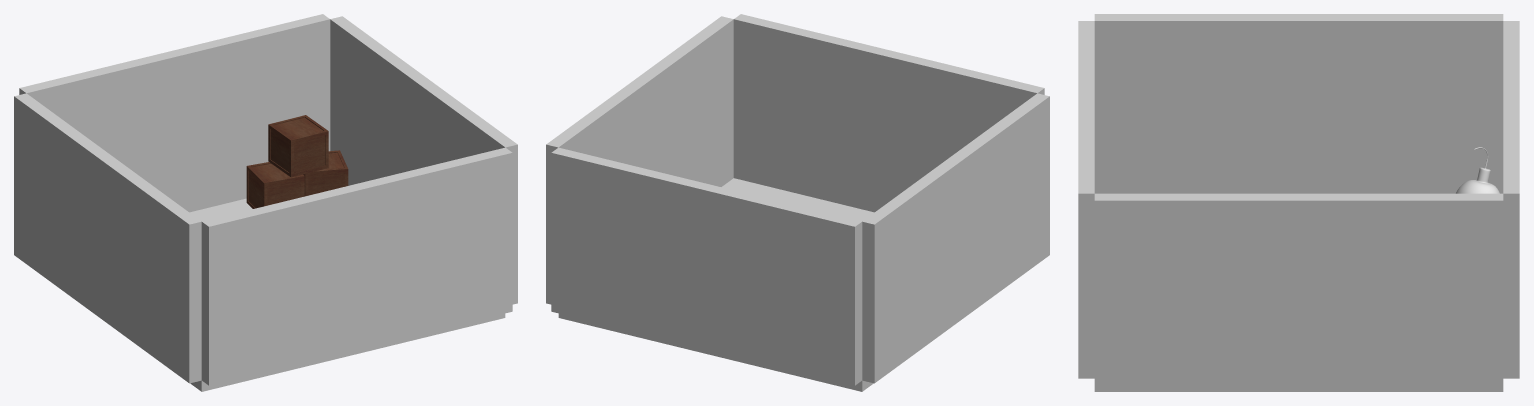
The model's file is MenuRoom.fbx.
3 renders of one model, left to right at view 1: azimuth 30°, elevation 25°; view 2: azimuth 150°, elevation 25°; view 3: azimuth 270°, elevation 25°, orthographic. The views are drawn at different scales.
Parts seen in each view (by area): view 1: Wall_4, Wall_2, Wall_3, Wall_1, Cube.002, Floor, Cube.001, Cube; view 2: Wall_2, Wall_4, Wall_3, Wall_1, Floor; view 3: Wall_1, Wall_3, Wall_2, Wall_4, Floor, Bomb.
Part boxes in pixels (left/top/right/bottom): Wall_4: left=201, top=147, right=512, bottom=385; Wall_2: left=19, top=14, right=330, bottom=212; Wall_3: left=14, top=93, right=201, bottom=383; Wall_1: left=330, top=16, right=517, bottom=304; Cube.002: left=268, top=115, right=328, bottom=177; Floor: left=189, top=198, right=505, bottom=391; Cube.001: left=246, top=162, right=304, bottom=208; Cube: left=303, top=150, right=348, bottom=196; Wall_2: left=551, top=147, right=862, bottom=385; Wall_4: left=733, top=14, right=1044, bottom=212; Wall_3: left=862, top=93, right=1049, bottom=383; Wall_1: left=546, top=16, right=733, bottom=304; Floor: left=558, top=178, right=874, bottom=391; Wall_1: left=1094, top=193, right=1503, bottom=385; Wall_3: left=1094, top=14, right=1503, bottom=193; Wall_2: left=1503, top=21, right=1519, bottom=378; Wall_4: left=1078, top=21, right=1094, bottom=378; Floor: left=1094, top=385, right=1503, bottom=391; Bomb: left=1456, top=147, right=1499, bottom=193.
Bounding box in the file's own units: 865 × 429 × 865.
